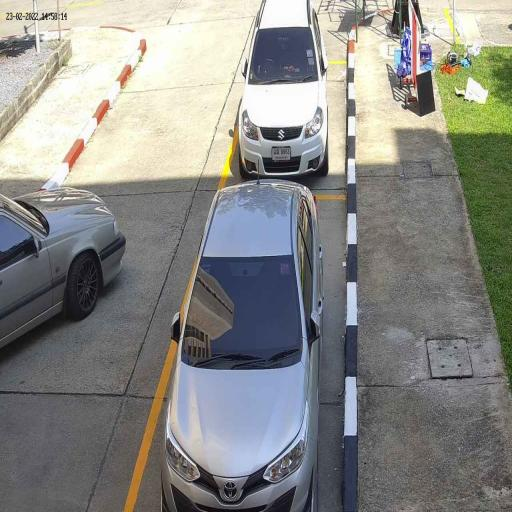car: (160, 178, 324, 512), (0, 186, 126, 349), (238, 0, 328, 178)
